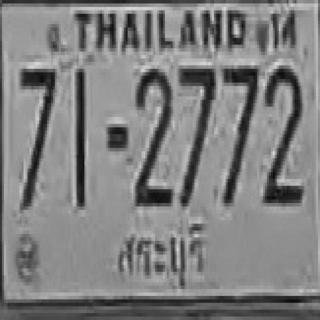N01: (75, 67, 84, 205)
N02: (262, 62, 301, 200), (134, 65, 171, 203)
N07: (177, 62, 214, 203), (19, 66, 56, 206), (222, 62, 257, 203)
P60: (112, 223, 212, 298)
